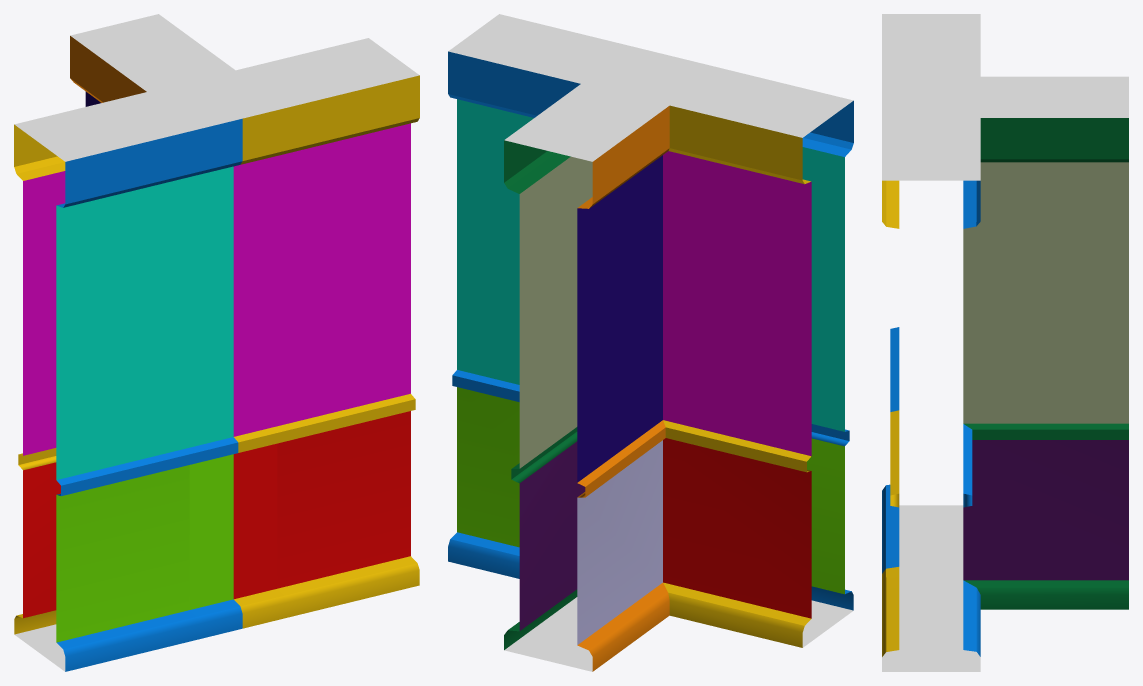
Rendered from Wall_T.fbx.
3 views of the same model, side by side, from view 1: azimuth 30°, elevation 25°; view 2: azimuth 150°, elevation 25°; view 3: azimuth 270°, elevation 25° (orthographic). The views are drawn at different scales.
Visible parts, largest first — view 1: Wall_T; view 2: Wall_T; view 3: Wall_T.
Part boxes in pixels (<box>): Wall_T: <box>14,14,419,671</box>; Wall_T: <box>448,14,853,671</box>; Wall_T: <box>882,14,1128,671</box>.
Size of the model in its own units: 200 by 275 by 125.
